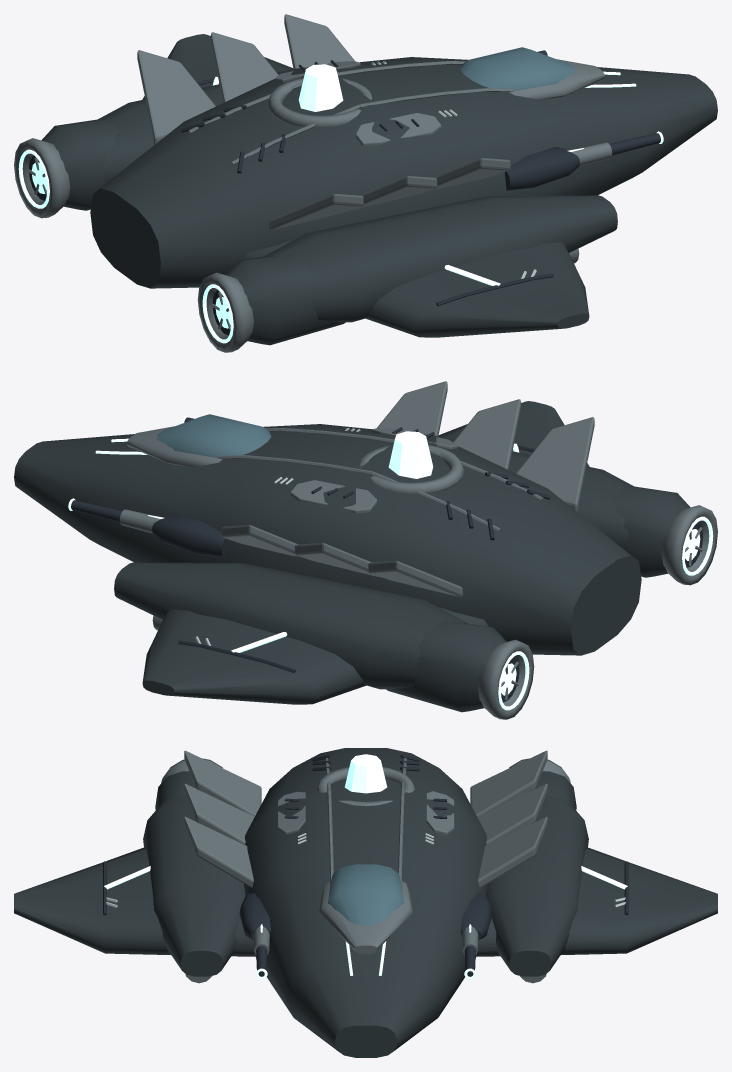
File: glacier.glb
3 views of the same model, one above another, from view 1: azimuth 30°, elevation 25°; view 2: azimuth 150°, elevation 25°; view 3: azimuth 270°, elevation 25° (orthographic). The views are drawn at different scales.
Visible parts, largest first — view 1: hull Hull paint, hull Brushed panel alloy, wing Hull paint, engine Brushed panel alloy, hull Smoked canopy, mount Graphite heat armour, hull Hull guidance, engine Hull guidance, hull Graphite heat armour, mount Brushed panel alloy, wing Graphite heat armour; view 2: hull Hull paint, hull Brushed panel alloy, wing Hull paint, engine Brushed panel alloy, hull Smoked canopy, mount Graphite heat armour, hull Hull guidance, engine Hull guidance, hull Graphite heat armour, wing Graphite heat armour, mount Brushed panel alloy; view 3: hull Hull paint, wing Hull paint, hull Brushed panel alloy, hull Smoked canopy, mount Graphite heat armour, hull Hull guidance, hull Graphite heat armour, mount Brushed panel alloy, engine Brushed panel alloy, wing Hull guidance.
Boxes of the visible parts, box(x1,y1,x2,y2) form: hull Hull paint: box(41, 57, 717, 345); hull Brushed panel alloy: box(137, 14, 604, 263); wing Hull paint: box(142, 34, 589, 337); engine Brushed panel alloy: box(14, 138, 253, 352); hull Smoked canopy: box(460, 47, 575, 90); mount Graphite heat armour: box(504, 50, 660, 190); hull Hull guidance: box(298, 64, 636, 111); engine Hull guidance: box(18, 149, 233, 343); hull Graphite heat armour: box(181, 60, 419, 173); mount Brushed panel alloy: box(571, 142, 612, 166); wing Graphite heat armour: box(197, 78, 553, 305); hull Hull paint: box(14, 424, 690, 712); hull Brushed panel alloy: box(127, 381, 594, 630); wing Hull paint: box(142, 401, 589, 704); engine Brushed panel alloy: box(478, 505, 717, 719); hull Smoked canopy: box(156, 414, 271, 457); mount Graphite heat armour: box(71, 417, 227, 557); hull Hull guidance: box(95, 431, 433, 478); engine Hull guidance: box(498, 516, 713, 710); hull Graphite heat armour: box(311, 427, 550, 540); wing Graphite heat armour: box(178, 445, 535, 672); mount Brushed panel alloy: box(119, 509, 160, 533); hull Hull paint: box(143, 748, 588, 1057); wing Hull paint: box(14, 847, 717, 956); hull Brushed panel alloy: box(184, 750, 547, 983); hull Smoked canopy: box(328, 864, 403, 925); mount Graphite heat armour: box(239, 893, 492, 976); hull Hull guidance: box(344, 754, 387, 975); hull Graphite heat armour: box(284, 754, 447, 819); mount Brushed panel alloy: box(253, 926, 478, 954); engine Brushed panel alloy: box(161, 758, 570, 783); wing Hull guidance: box(104, 866, 627, 889).
Bounding box in the file's own units: 47.02 × 14.96 × 54.
